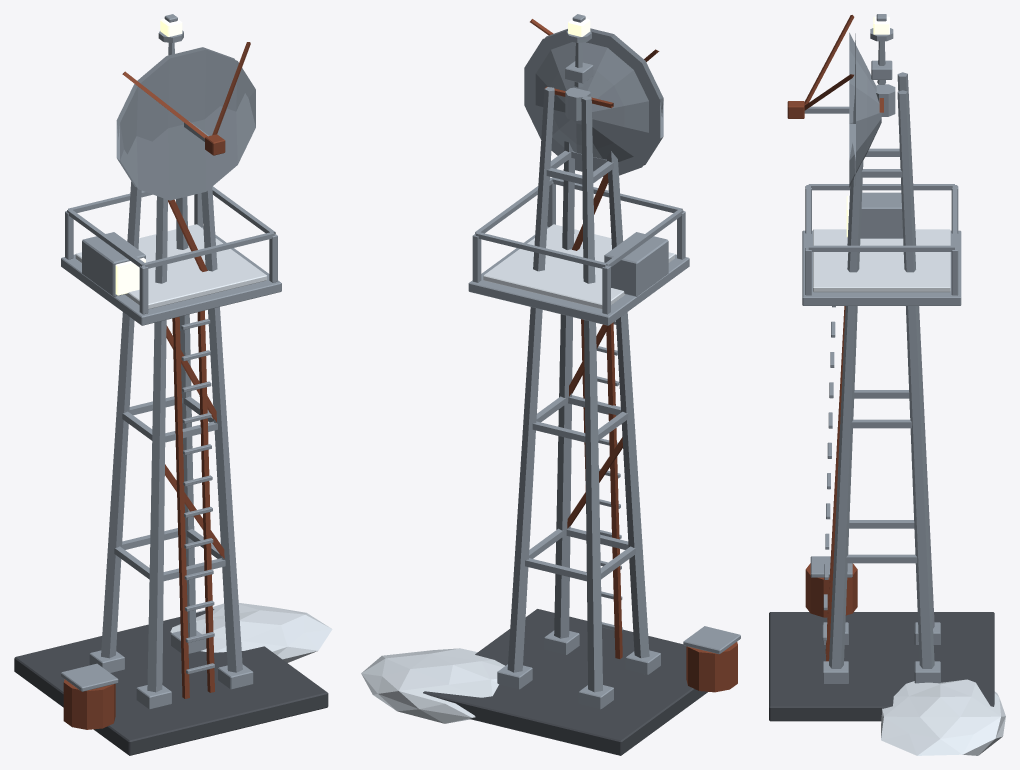
Rendered from MenuStationMast.fbx.
3 views of the same model, side by side, from view 1: azimuth 30°, elevation 25°; view 2: azimuth 150°, elevation 25°; view 3: azimuth 270°, elevation 25° (orthographic). The views are drawn at different scales.
Parts seen in each view (by area): view 1: MenuStationMast, MastDish, MastBeacon; view 2: MenuStationMast, MastDish; view 3: MenuStationMast, MastDish, MastBeacon.
Part boxes in pixels (x1=…): MenuStationMast: x1=14, y1=42, x2=332, y2=755; MastDish: x1=116, y1=42, x2=255, y2=200; MastBeacon: x1=158, y1=14, x2=183, y2=42; MenuStationMast: x1=361, y1=42, x2=740, y2=755; MastDish: x1=524, y1=19, x2=663, y2=176; MenuStationMast: x1=769, y1=41, x2=1005, y2=755; MastDish: x1=787, y1=15, x2=895, y2=187; MastBeacon: x1=870, y1=14, x2=893, y2=41.
Bounding box in the file's own units: 833 × 1773 × 567.
